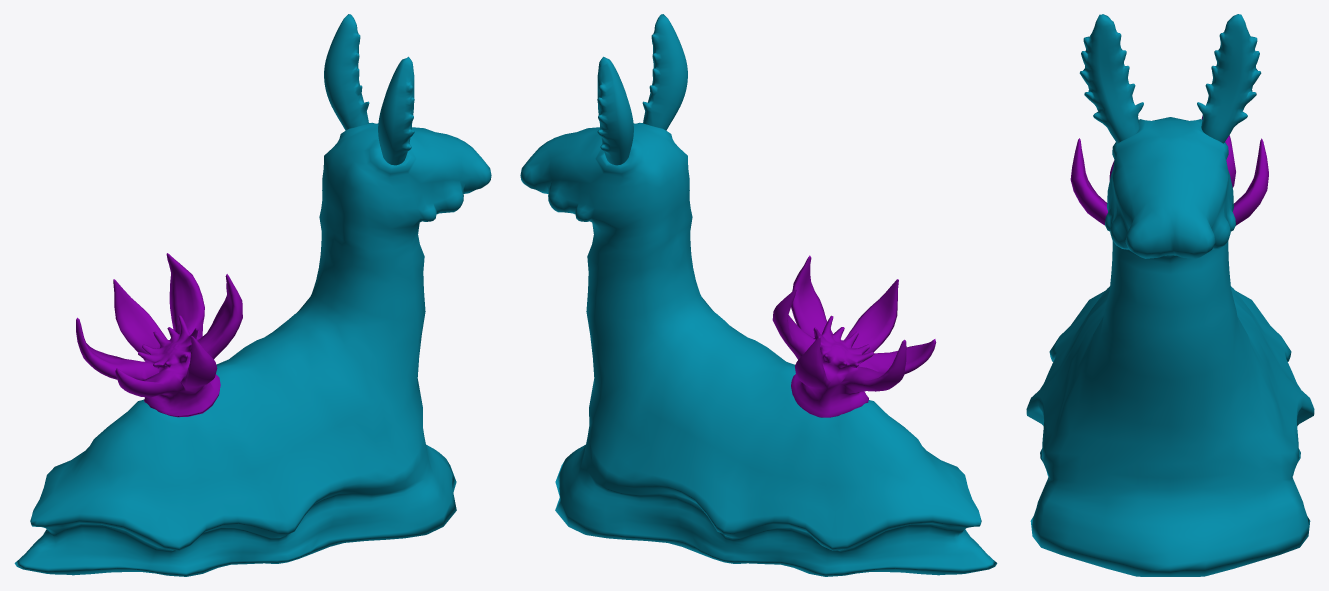
The model's file is llamaSlug_lowPoly.fbx.
The picture shows the model from 3 angles, left to right: view 1: azimuth 30°, elevation 25°; view 2: azimuth 150°, elevation 25°; view 3: azimuth 270°, elevation 25°; orthographic projection. The views are drawn at different scales.
Parts seen in each view (by area): view 1: body, flower; view 2: body, flower; view 3: body, flower.
Part boxes in pixels (bbox=[...]): body: bbox=[14, 14, 491, 576]; flower: bbox=[76, 253, 242, 417]; body: bbox=[520, 14, 997, 576]; flower: bbox=[772, 255, 936, 417]; body: bbox=[1026, 14, 1314, 576]; flower: bbox=[1070, 116, 1268, 225].
Size of the model in its own units: 119 by 113 by 55.3.
